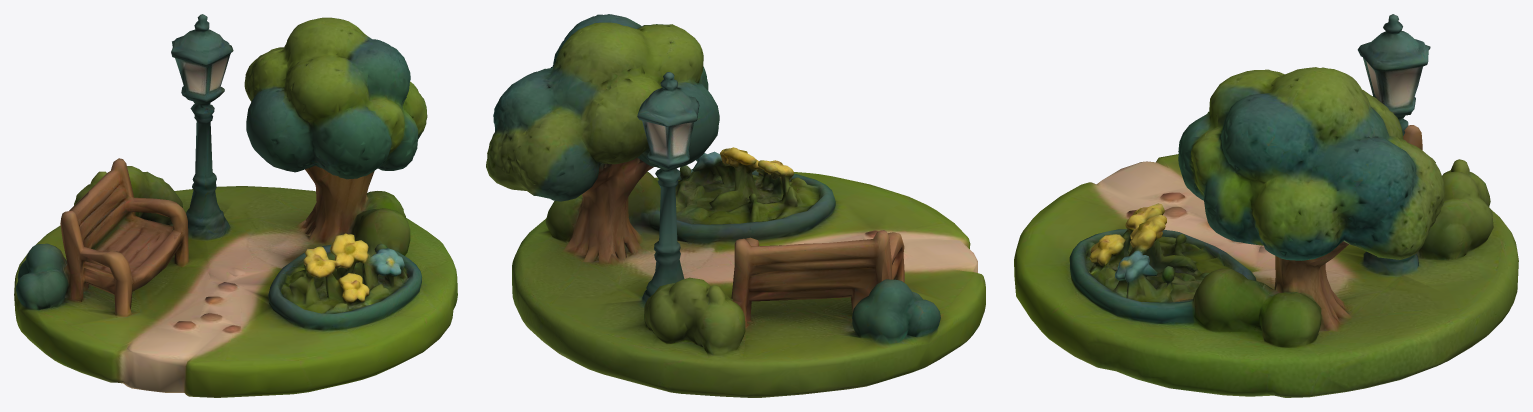
File: facility-park.glb
3 views of the same model, side by side, from view 1: azimuth 30°, elevation 25°; view 2: azimuth 150°, elevation 25°; view 3: azimuth 270°, elevation 25° (orthographic). The views are drawn at different scales.
Visible parts, largest first — view 1: Mesh_0; view 2: Mesh_0; view 3: Mesh_0.
Boxes of the visible parts, <box> form: Mesh_0: <box>14,14,457,397</box>; Mesh_0: <box>486,14,985,397</box>; Mesh_0: <box>1014,14,1518,397</box>.
Bounding box in the file's own units: 2 × 1.24 × 1.93.
Materials: 1 (1 with a texture image).
